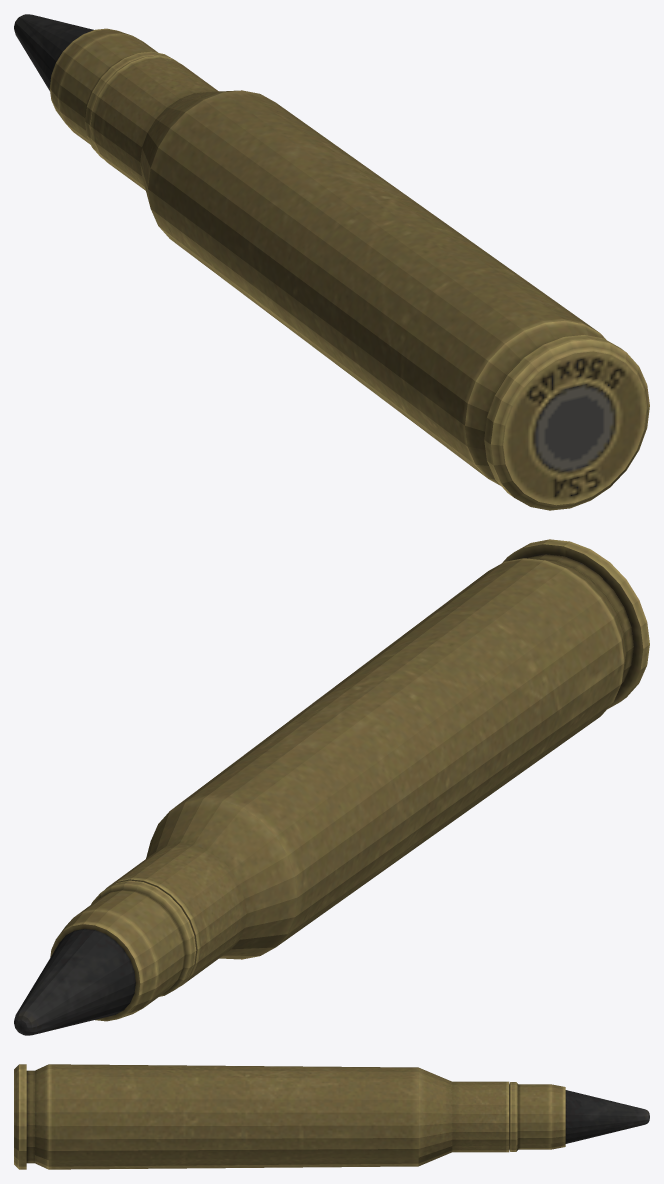
3 views of the same model, one above another, from view 1: azimuth 30°, elevation 25°; view 2: azimuth 150°, elevation 25°; view 3: azimuth 270°, elevation 25° (orthographic). The views are drawn at different scales.
Visible parts, largest first — view 1: TW_601949593ae8f707c4608daa_PZ_Import; view 2: TW_601949593ae8f707c4608daa_PZ_Import; view 3: TW_601949593ae8f707c4608daa_PZ_Import.
Part boxes in pixels (<box>): TW_601949593ae8f707c4608daa_PZ_Import: <box>14,14,649,510</box>; TW_601949593ae8f707c4608daa_PZ_Import: <box>14,539,649,1035</box>; TW_601949593ae8f707c4608daa_PZ_Import: <box>14,1064,649,1169</box>.
Bounding box in the file's own units: 0.00552 × 0.0332 × 0.00552.
Materials: 1 (1 with a texture image).
